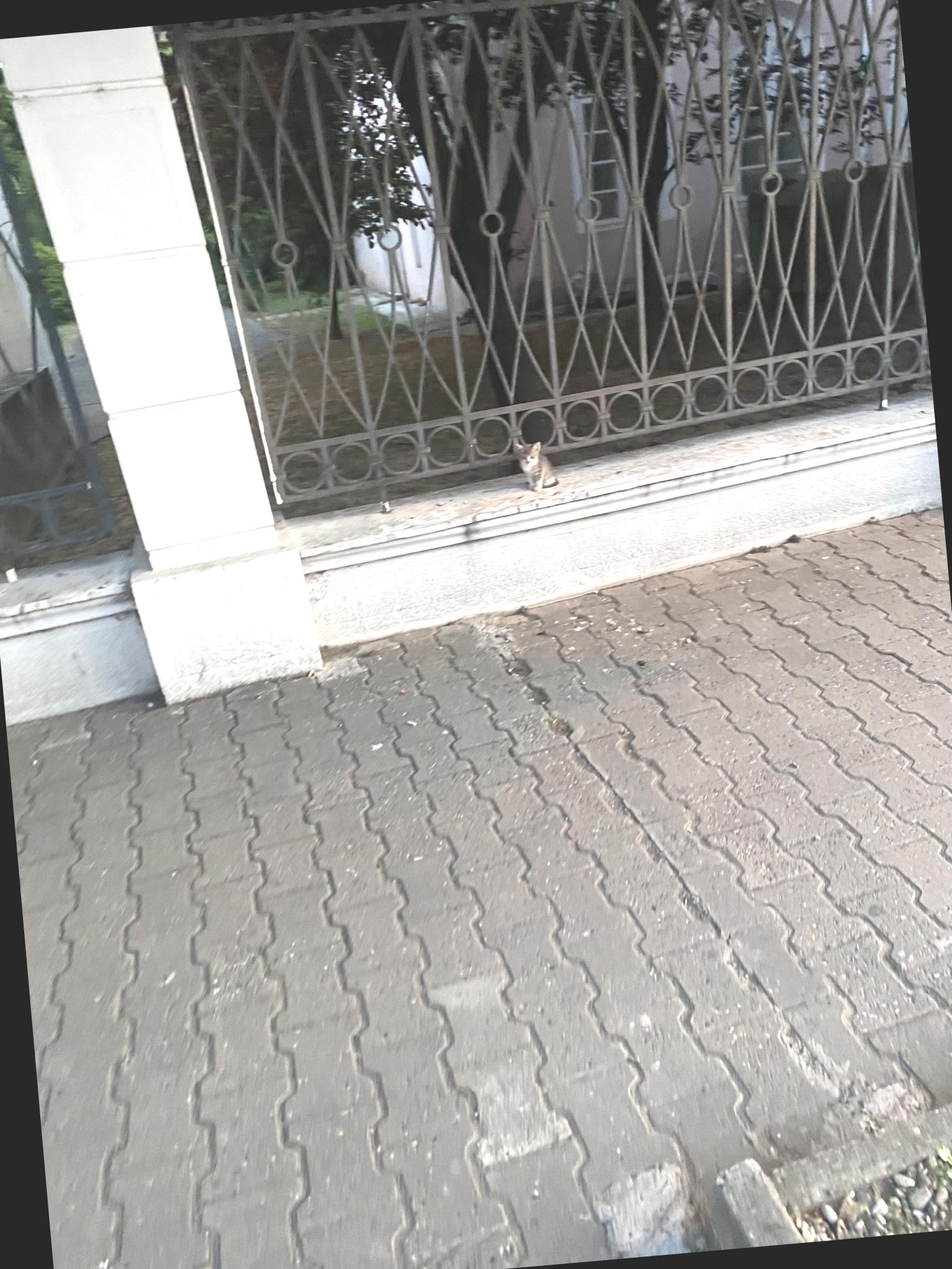macka: (514, 439, 559, 493)
